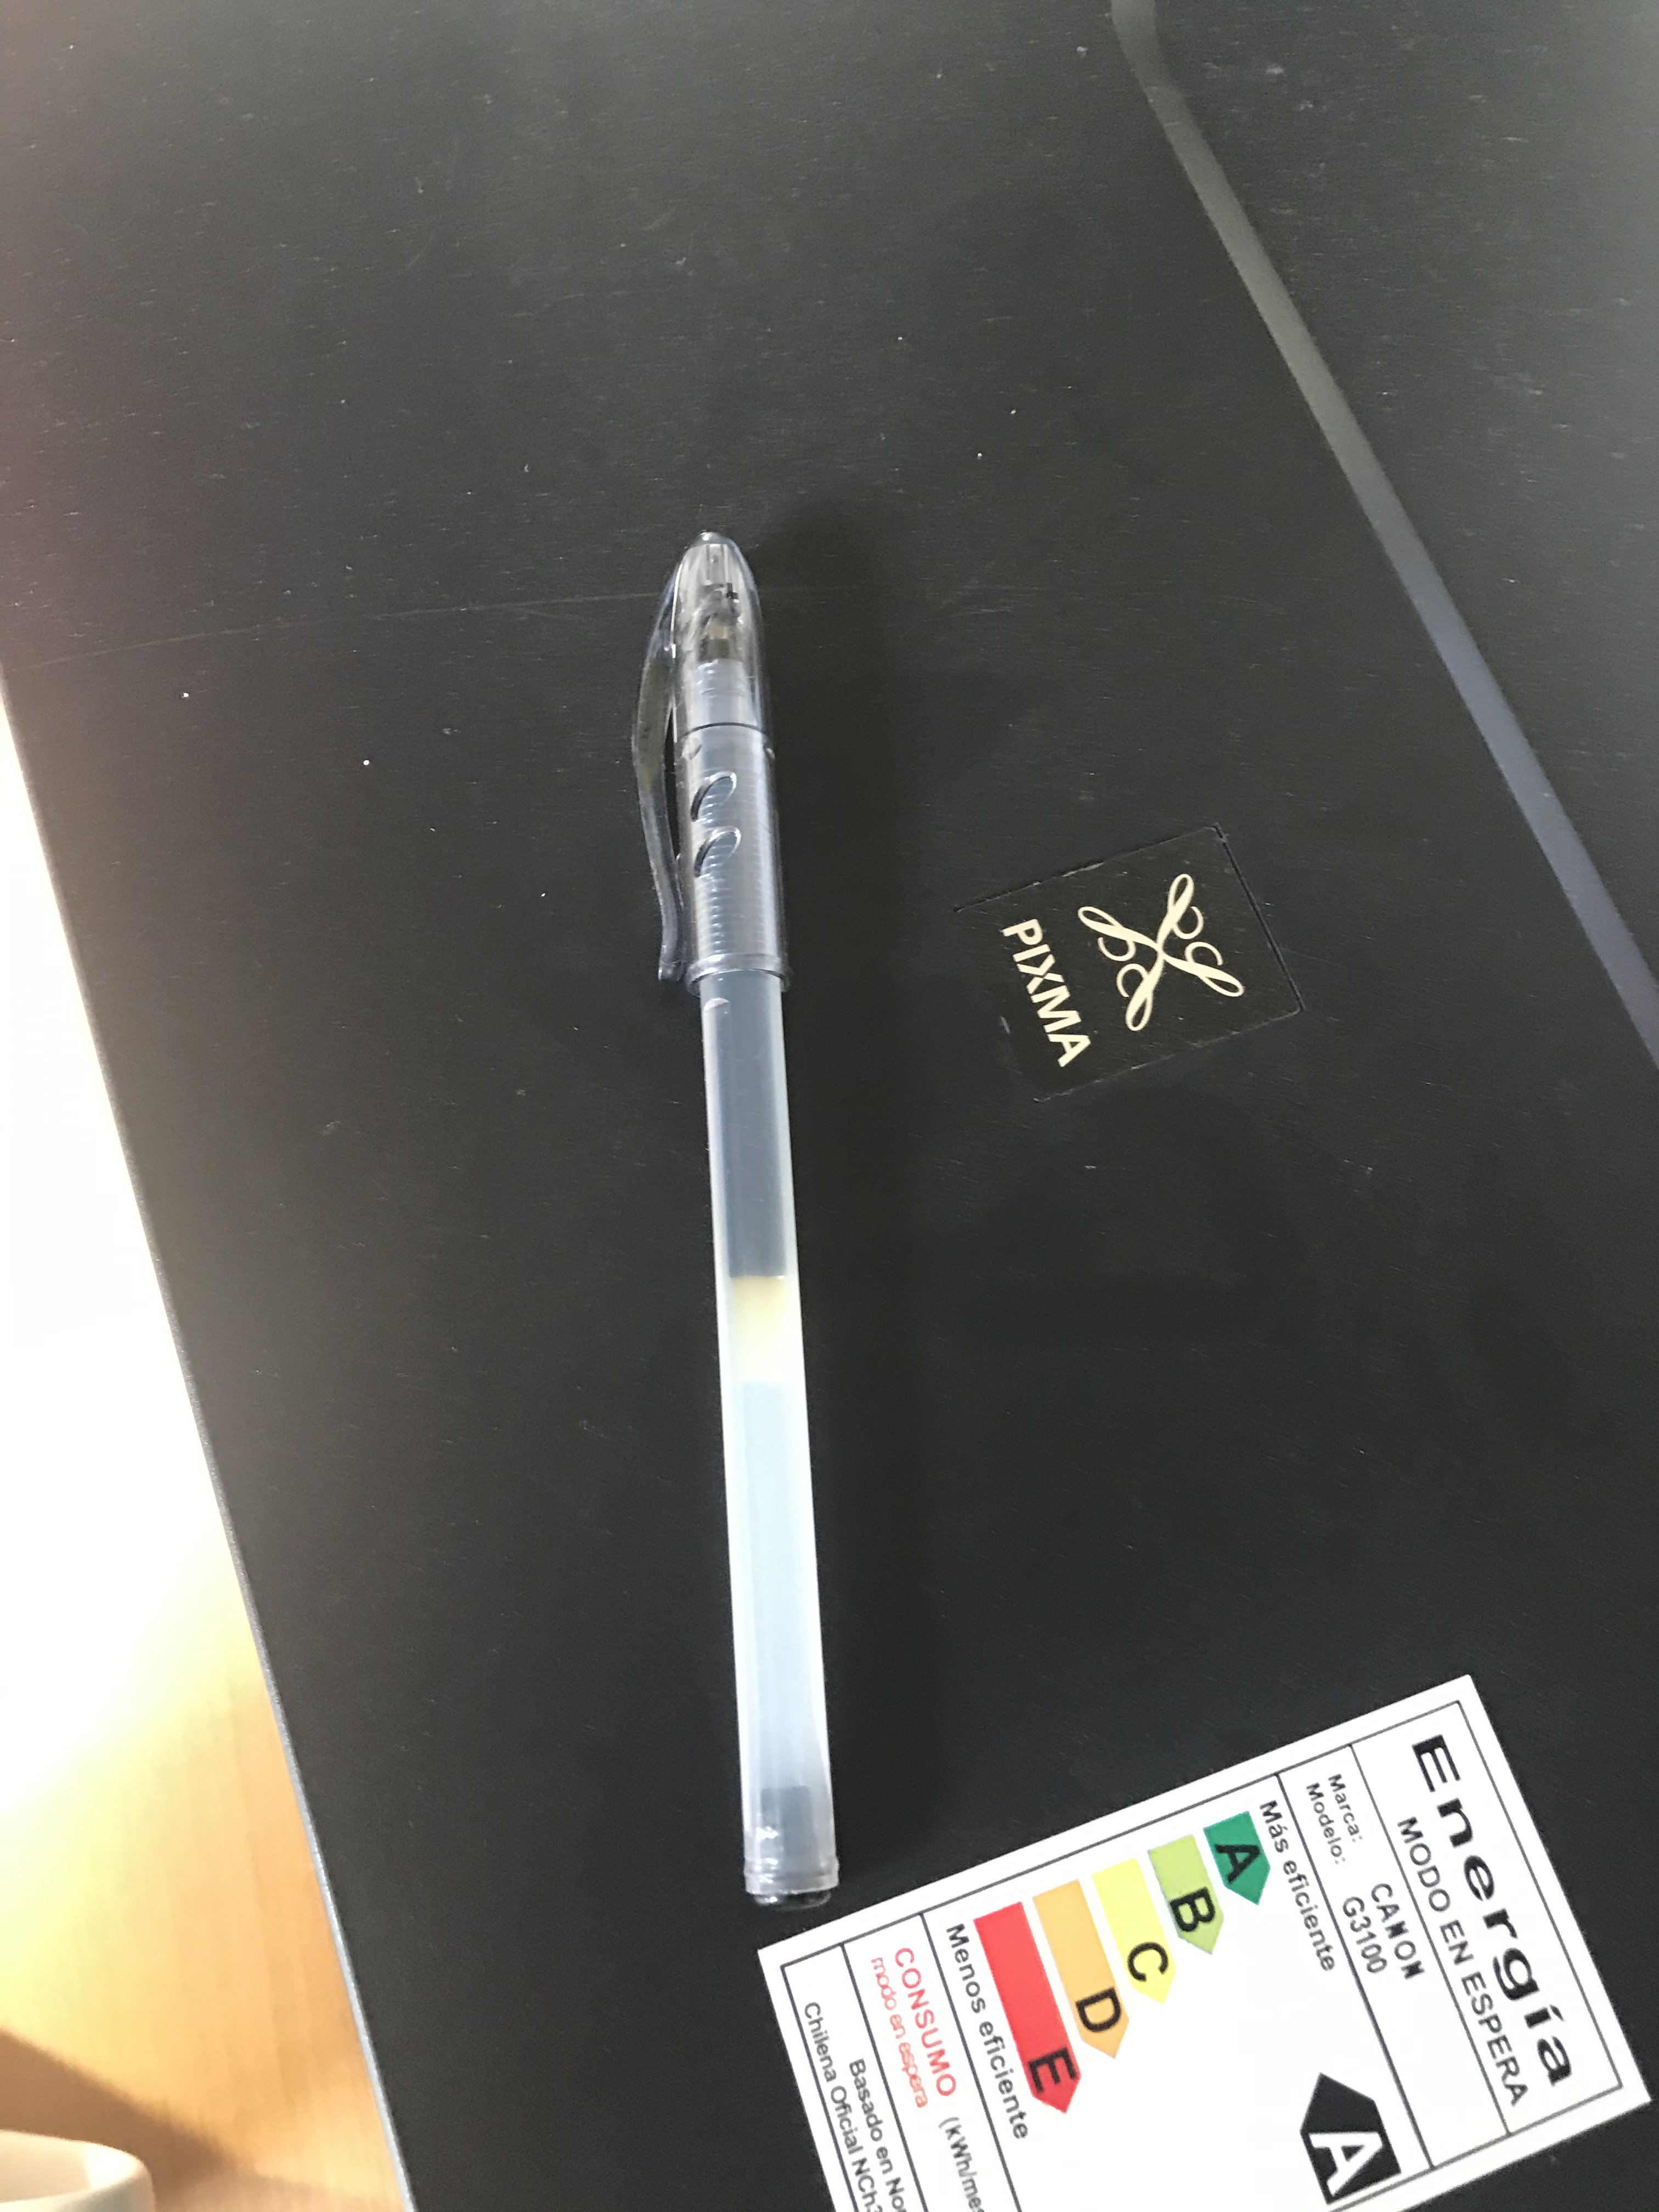lapiz: (619, 514, 863, 1918)
